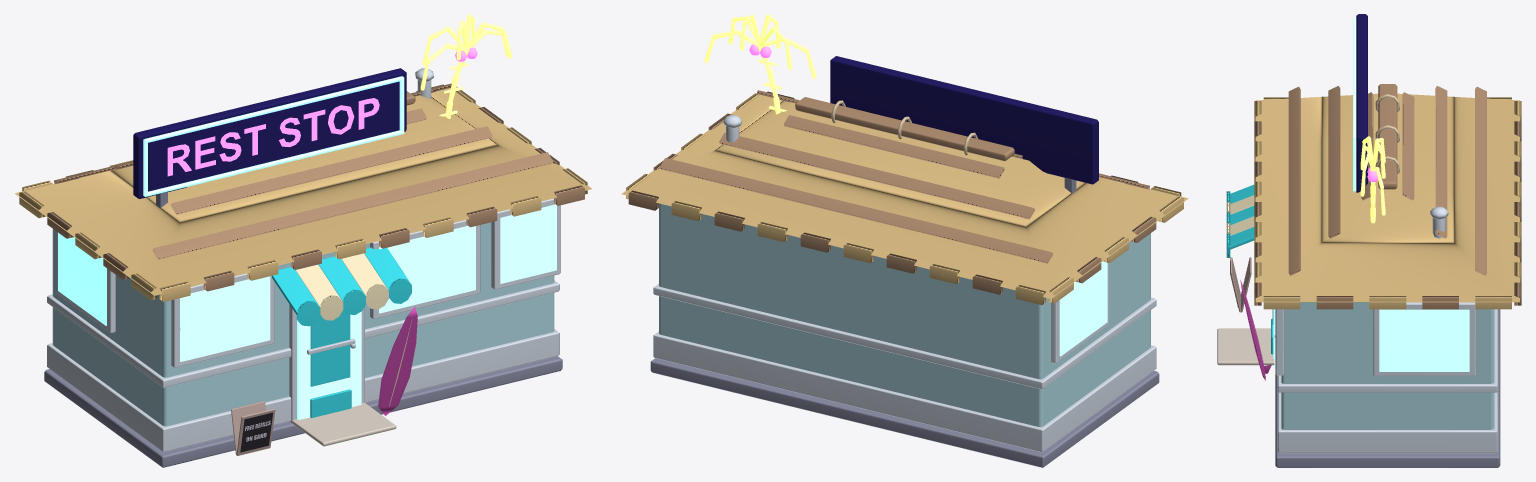
The model's file is rest_stop_beach.glb.
3 renders of one model, left to right at view 1: azimuth 30°, elevation 25°; view 2: azimuth 150°, elevation 25°; view 3: azimuth 270°, elevation 25°, orthographic. The views are drawn at different scales.
Parts seen in each view (by area): view 1: Body, Roof, Sign, NeonFrame, NeonFronds, NeonTrunk; view 2: Body, Roof, Sign, NeonFronds, NeonTrunk; view 3: Roof, Body, Sign, NeonFronds, NeonFrame, NeonTrunk.
Boxes of the visible parts, <box> form: Body: <box>44,198,562,467</box>; Roof: <box>15,68,591,301</box>; Sign: <box>133,68,406,208</box>; NeonFrame: <box>143,76,404,196</box>; NeonFronds: <box>420,14,511,90</box>; NeonTrunk: <box>439,47,477,118</box>; Body: <box>650,203,1159,467</box>; Roof: <box>621,90,1188,304</box>; Sign: <box>830,56,1098,193</box>; NeonFronds: <box>704,14,816,78</box>; NeonTrunk: <box>749,44,786,114</box>; Roof: <box>1254,84,1521,309</box>; Body: <box>1217,184,1500,467</box>; Sign: <box>1356,14,1367,192</box>; NeonFronds: <box>1360,136,1385,215</box>; NeonFrame: <box>1353,18,1356,191</box>; NeonTrunk: <box>1367,166,1377,223</box>.
Bounding box in the file's own units: 6.5 × 4.64 × 4.14.
